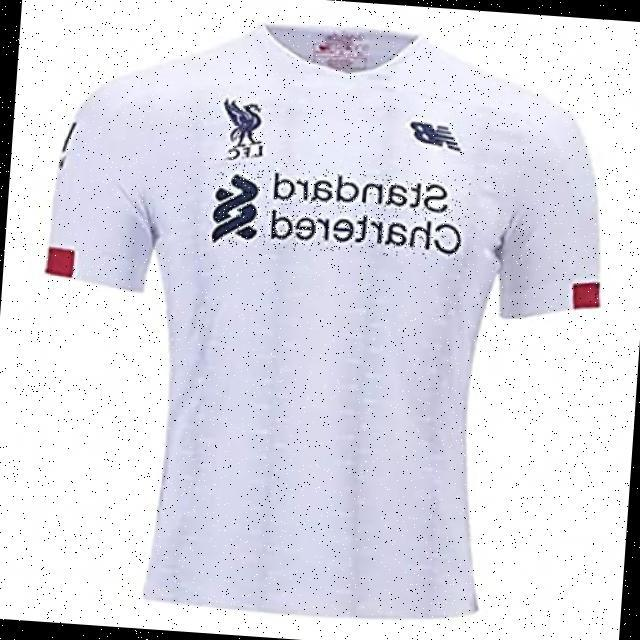Standard Chartered: (211, 162, 470, 261)
